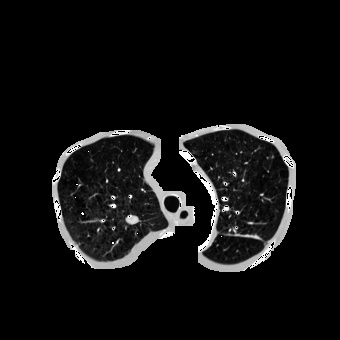PN: (126, 214, 138, 226)
